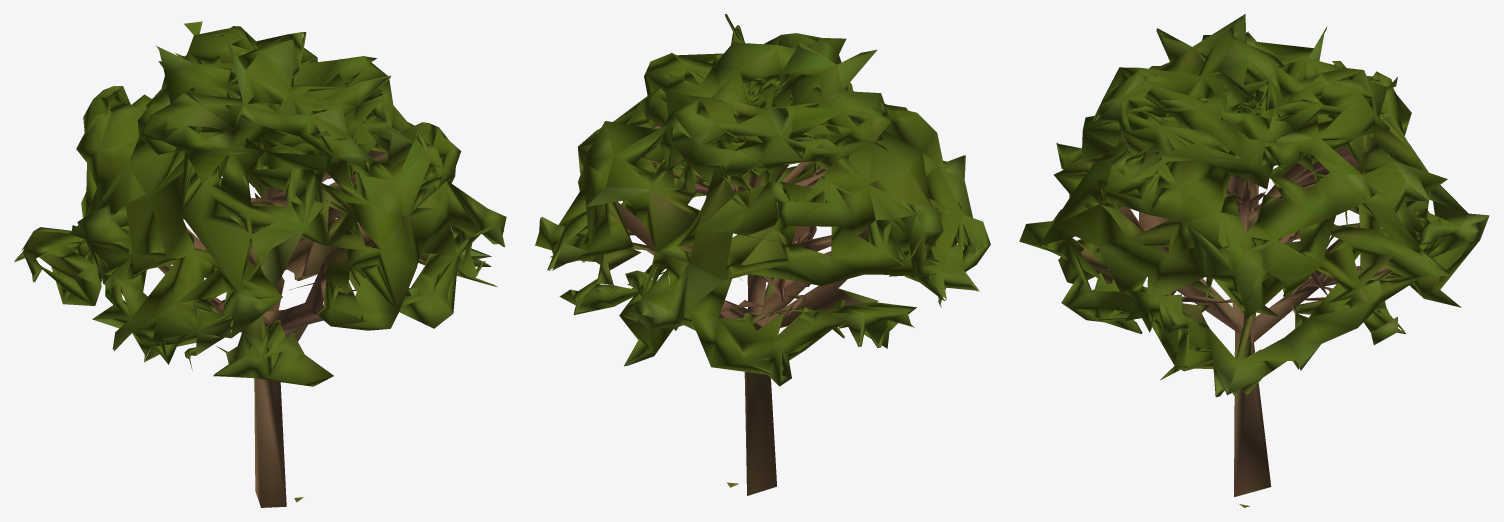
The model's file is arvore1.glb.
3 views of the same model, side by side, from view 1: azimuth 30°, elevation 25°; view 2: azimuth 150°, elevation 25°; view 3: azimuth 270°, elevation 25° (orthographic). The views are drawn at different scales.
Parts seen in each view (by area): view 1: Prop_arvore1; view 2: Prop_arvore1; view 3: Prop_arvore1.
Part boxes in pixels (x1,y1,x2,y2): Prop_arvore1: [14, 21, 506, 507]; Prop_arvore1: [535, 14, 990, 495]; Prop_arvore1: [1019, 14, 1489, 507].
Bounding box in the file's own units: 8.21 × 9 × 8.35.
Materials: 1 (1 with a texture image).
